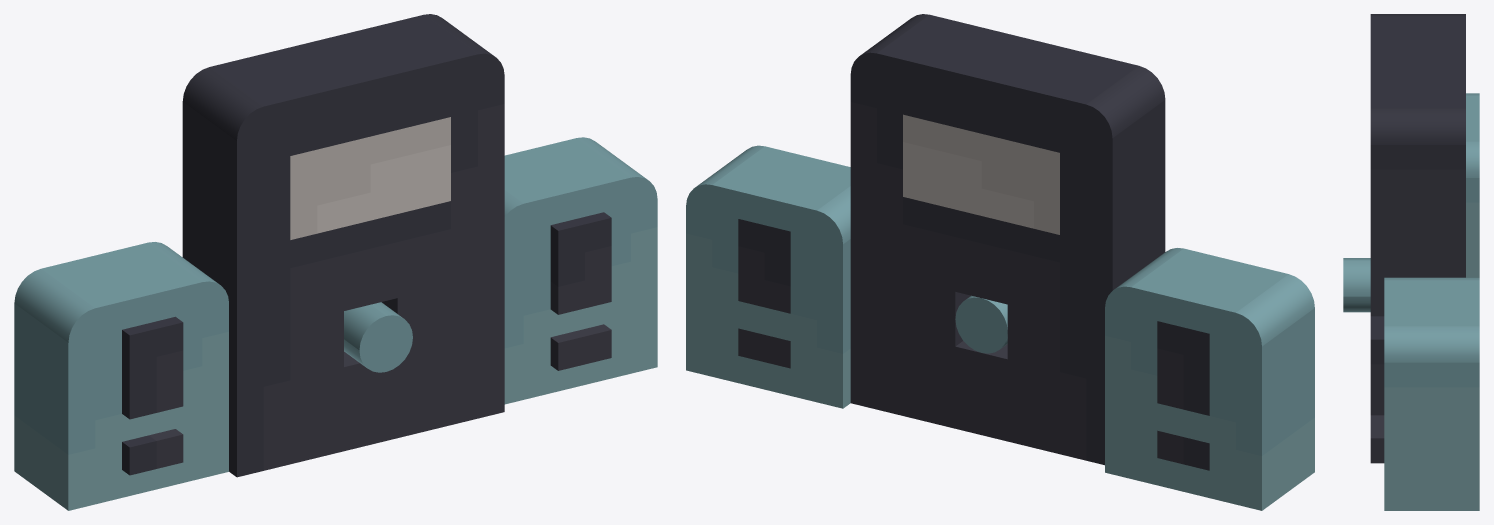
Rendered from audiosystem.glb.
3 views of the same model, side by side, from view 1: azimuth 30°, elevation 25°; view 2: azimuth 150°, elevation 25°; view 3: azimuth 270°, elevation 25° (orthographic). The views are drawn at different scales.
Parts seen in each view (by area): view 1: generated(Clone); view 2: generated(Clone); view 3: generated(Clone).
Boxes of the visible parts, x1,y1,x2,y2 form: generated(Clone): [14, 14, 657, 510]; generated(Clone): [686, 14, 1314, 510]; generated(Clone): [1343, 14, 1479, 510].
Size of the model in its own units: 16.5 by 9.75 by 3.75.
